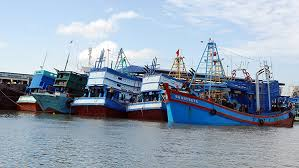tau_dansu: (165, 51, 298, 129), (128, 65, 190, 126), (76, 63, 134, 118), (28, 66, 86, 115)
